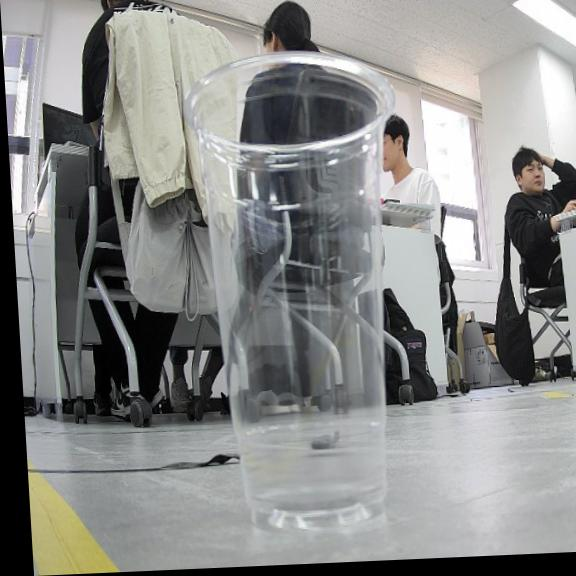Plastik: (186, 52, 394, 528)
